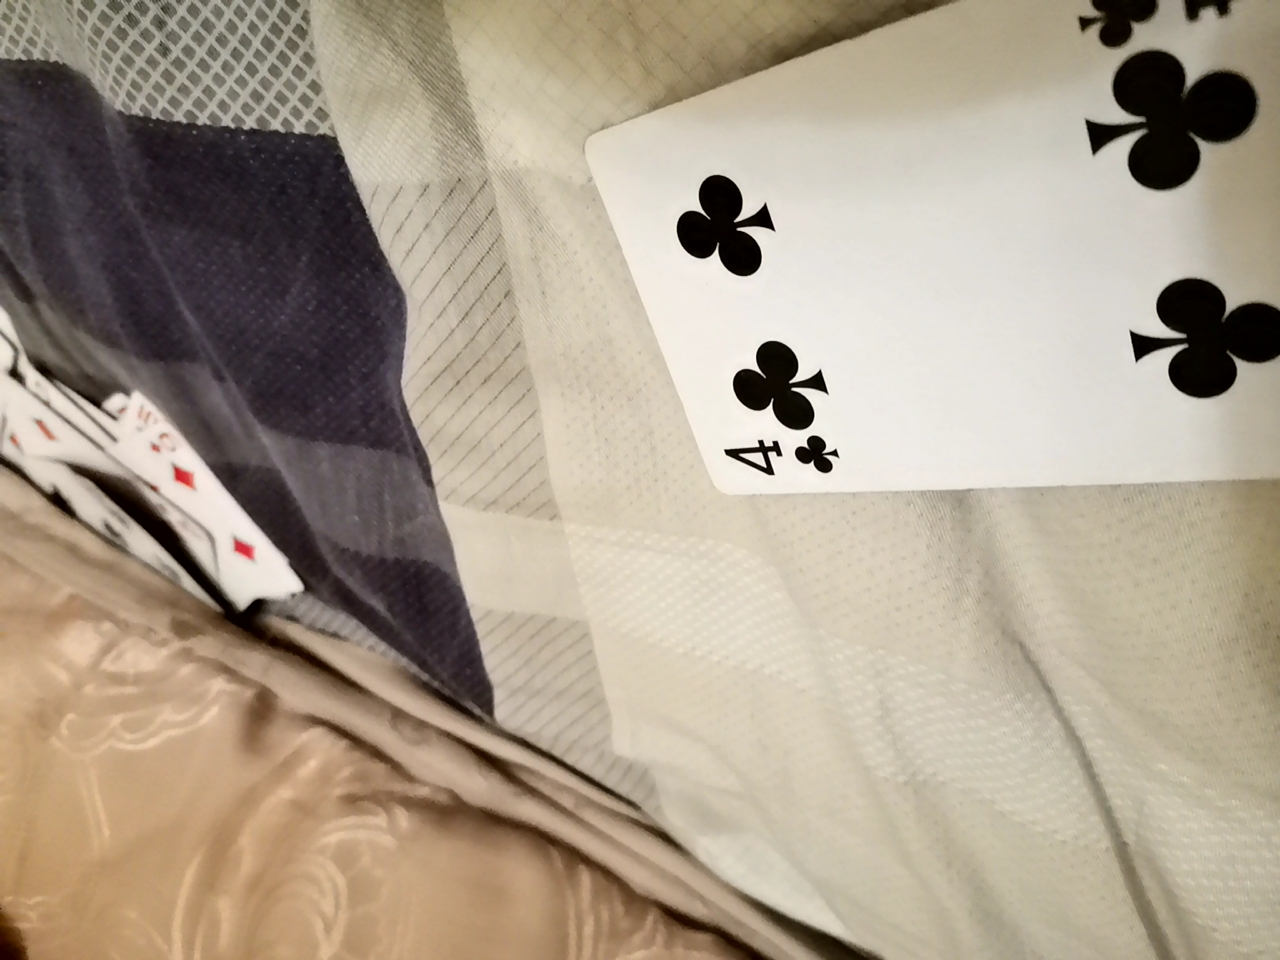mh 4: (597, 5, 1276, 508)
